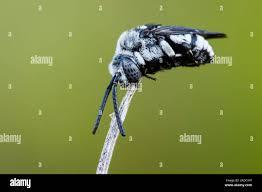Thyreus: (84, 16, 226, 138)
